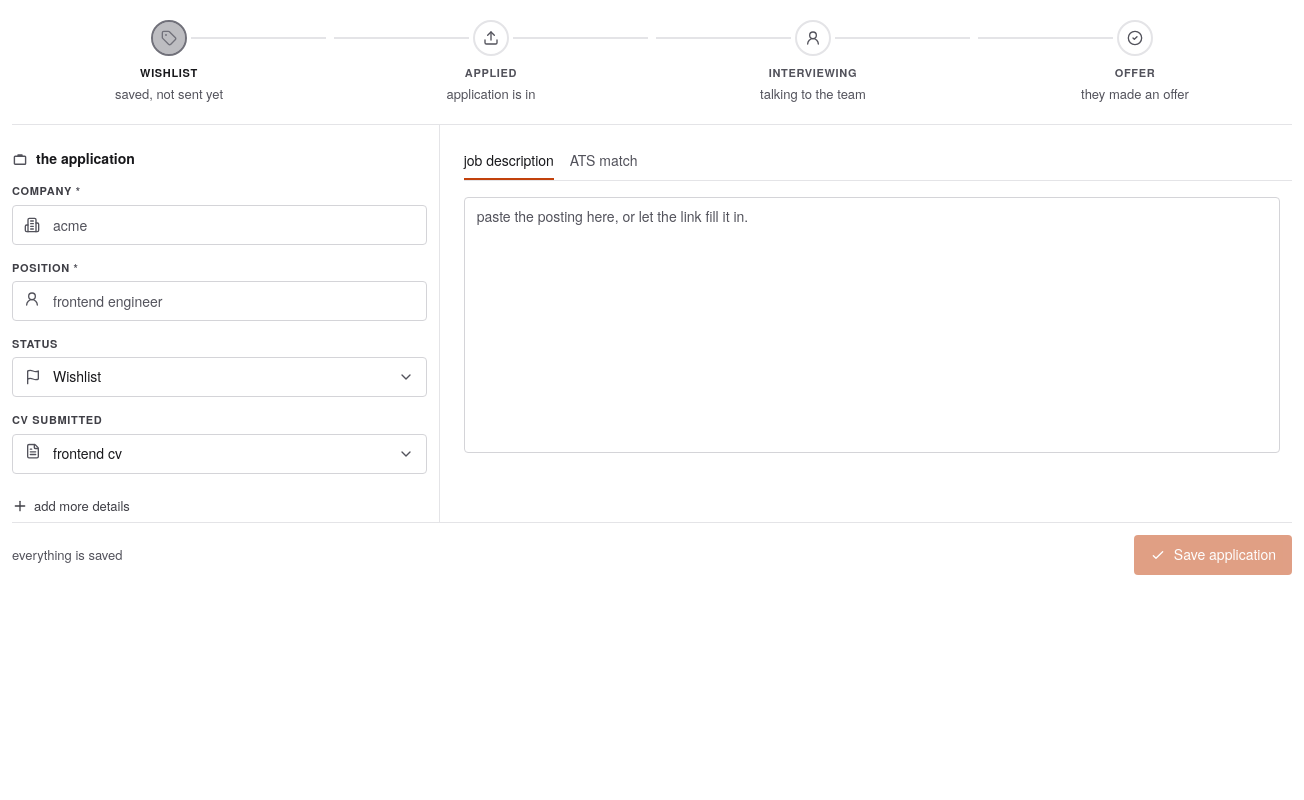
Test case: the "CV submitted" field on an application › goes quiet again when the original CV is picked back
Click the dropdown named "cv submitted". click: click(87, 453)
box: [12,434,427,474]
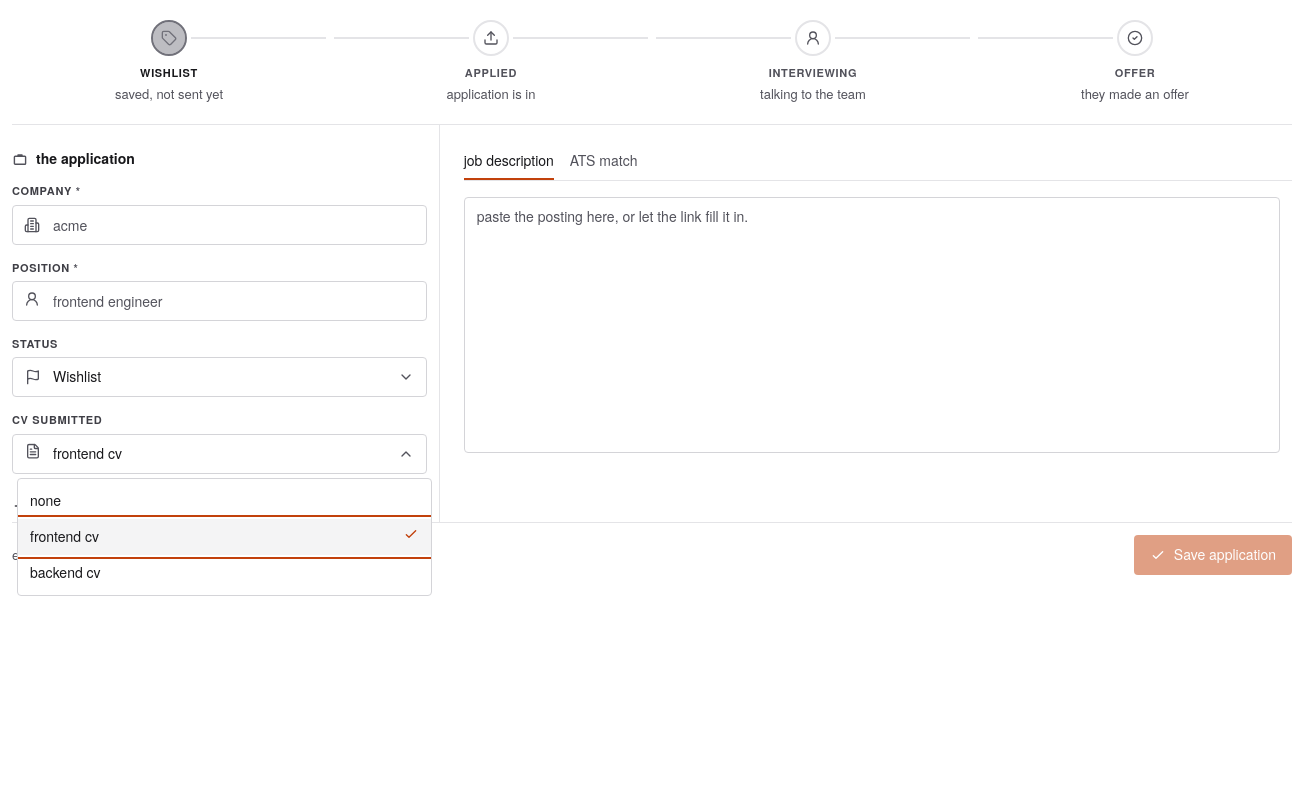
Click the option "backend cv". click: click(65, 572)
box: [30,562,101,582]
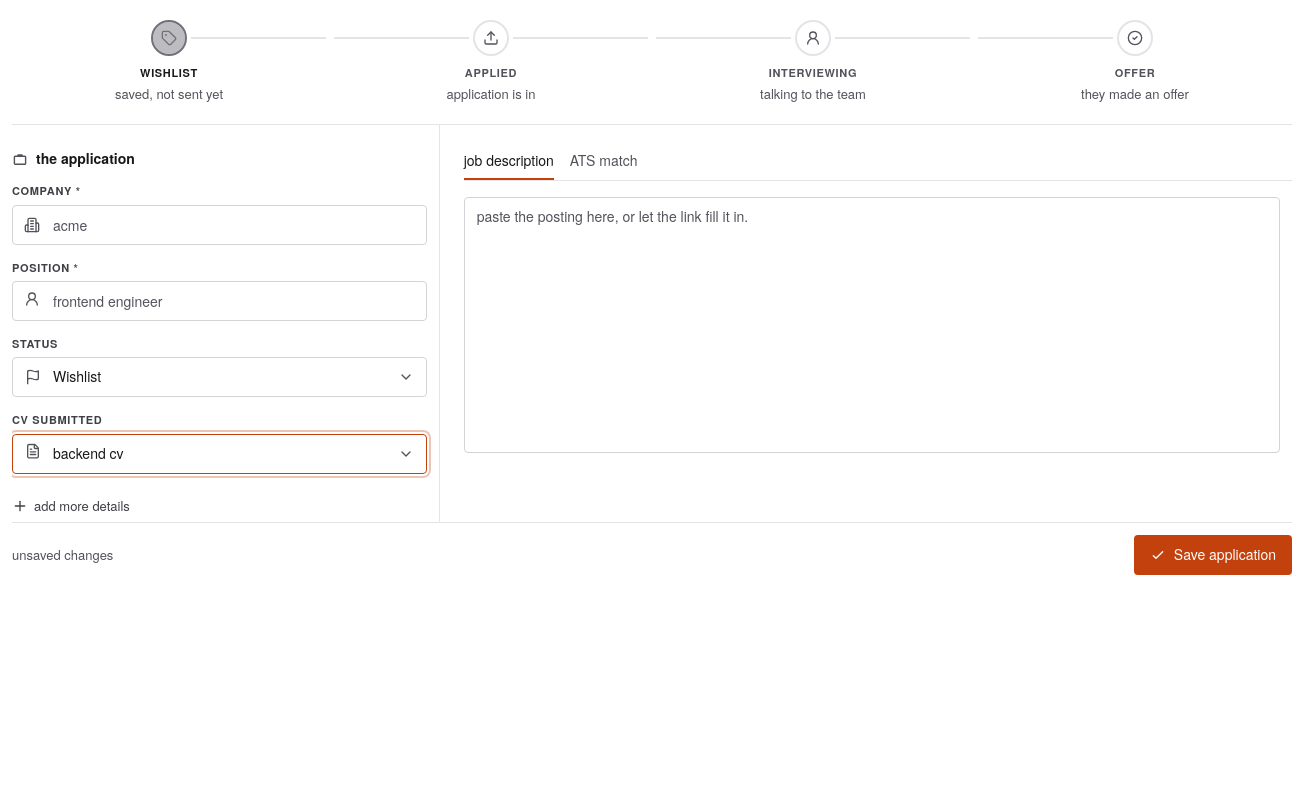
Expected: the button "Save application" is enabled, [1134,535,1292,575]
Click the dropdown named "cv submitted". click: click(88, 453)
box: [12,434,427,474]
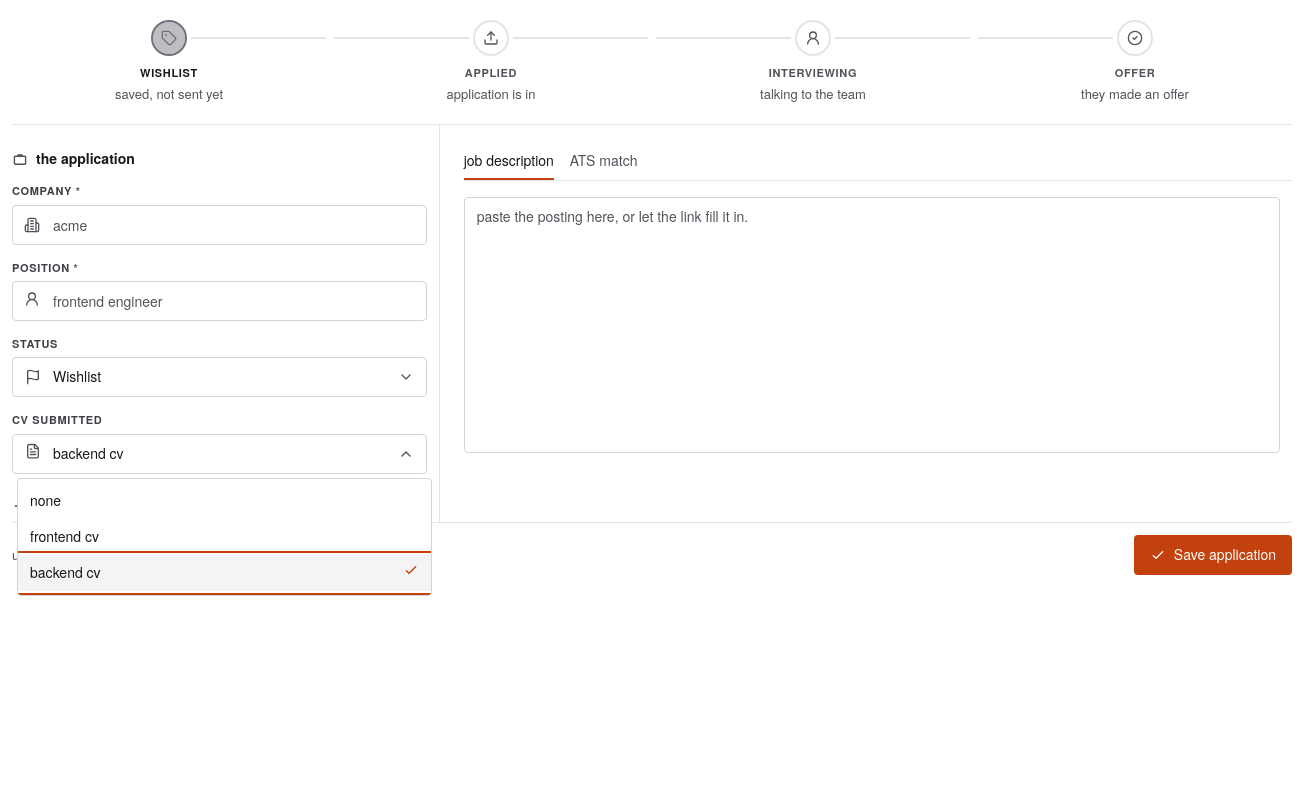
Click the option "frontend cv". click: click(64, 536)
box: [30,526,99,546]
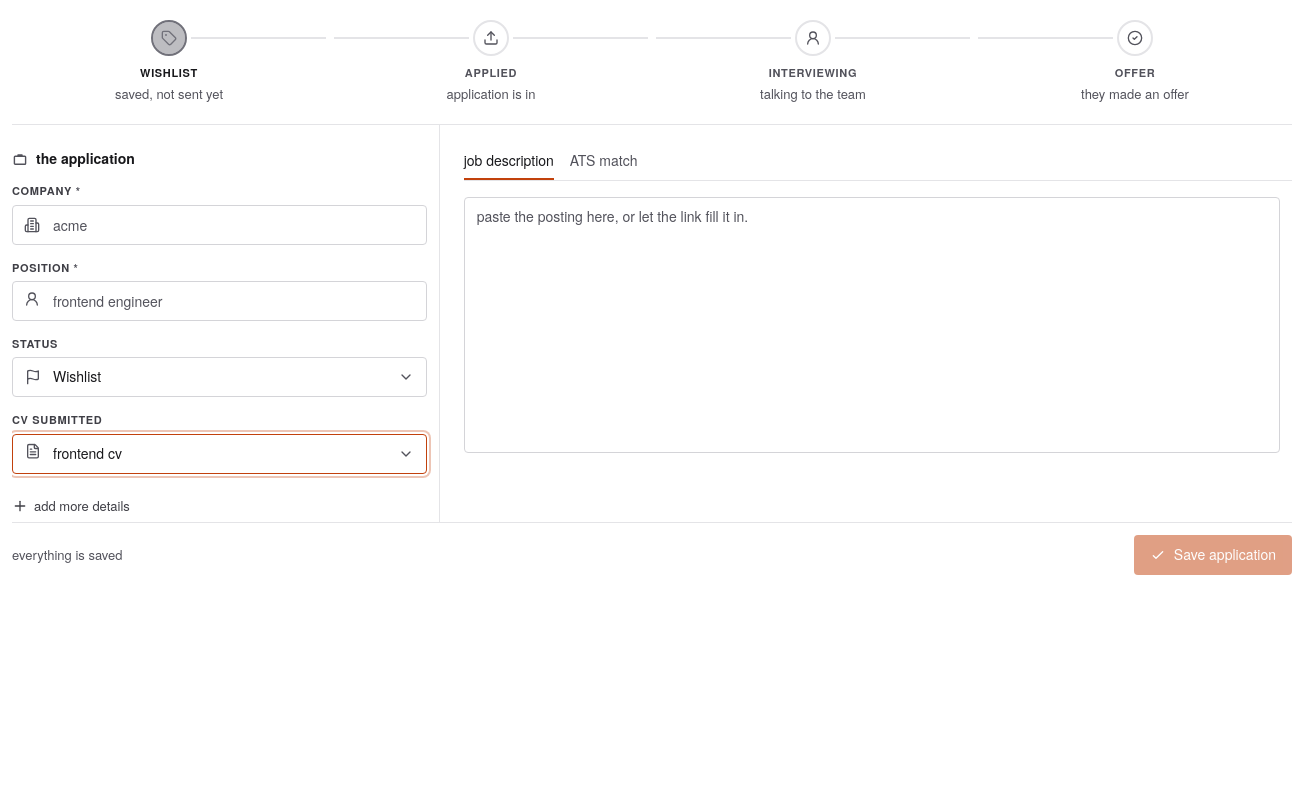
Expected: the button "Save application" is disabled, [1134,535,1292,575]
